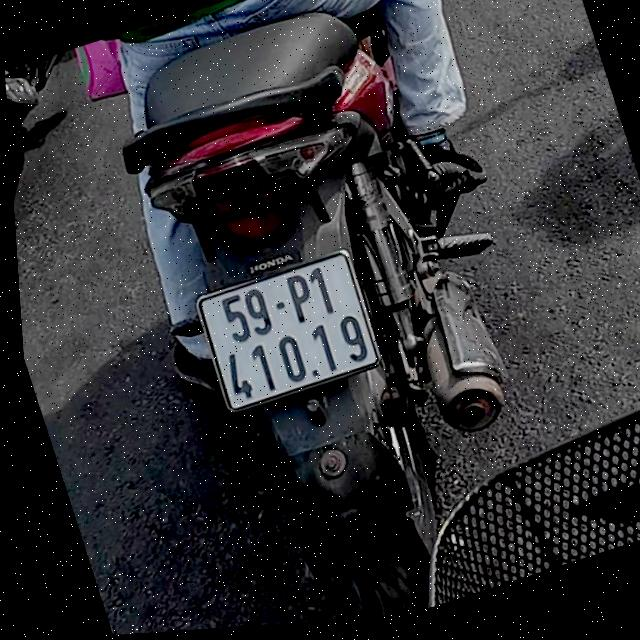motorcycle: (93, 0, 583, 634)
plate: (185, 246, 385, 417)
